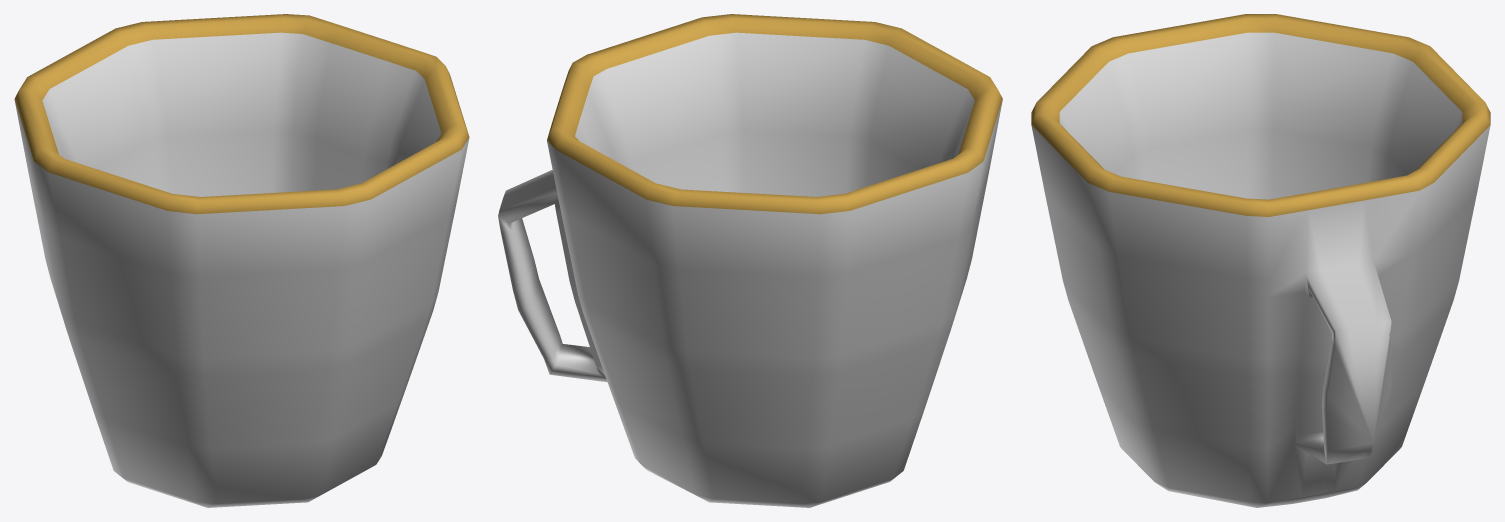
The model's file is jadalnia_kubek.fbx.
The picture shows the model from 3 angles, left to right: view 1: azimuth 30°, elevation 25°; view 2: azimuth 150°, elevation 25°; view 3: azimuth 270°, elevation 25°; orthographic projection.
Parts seen in each view (by area): view 1: Circle; view 2: Circle; view 3: Circle.
Boxes of the visible parts, x1=… form: Circle: x1=14, y1=14, x2=469, y2=507; Circle: x1=498, y1=14, x2=1002, y2=507; Circle: x1=1031, y1=14, x2=1490, y2=507.
Size of the model in its own units: 20.34 by 15.56 by 18.88.
